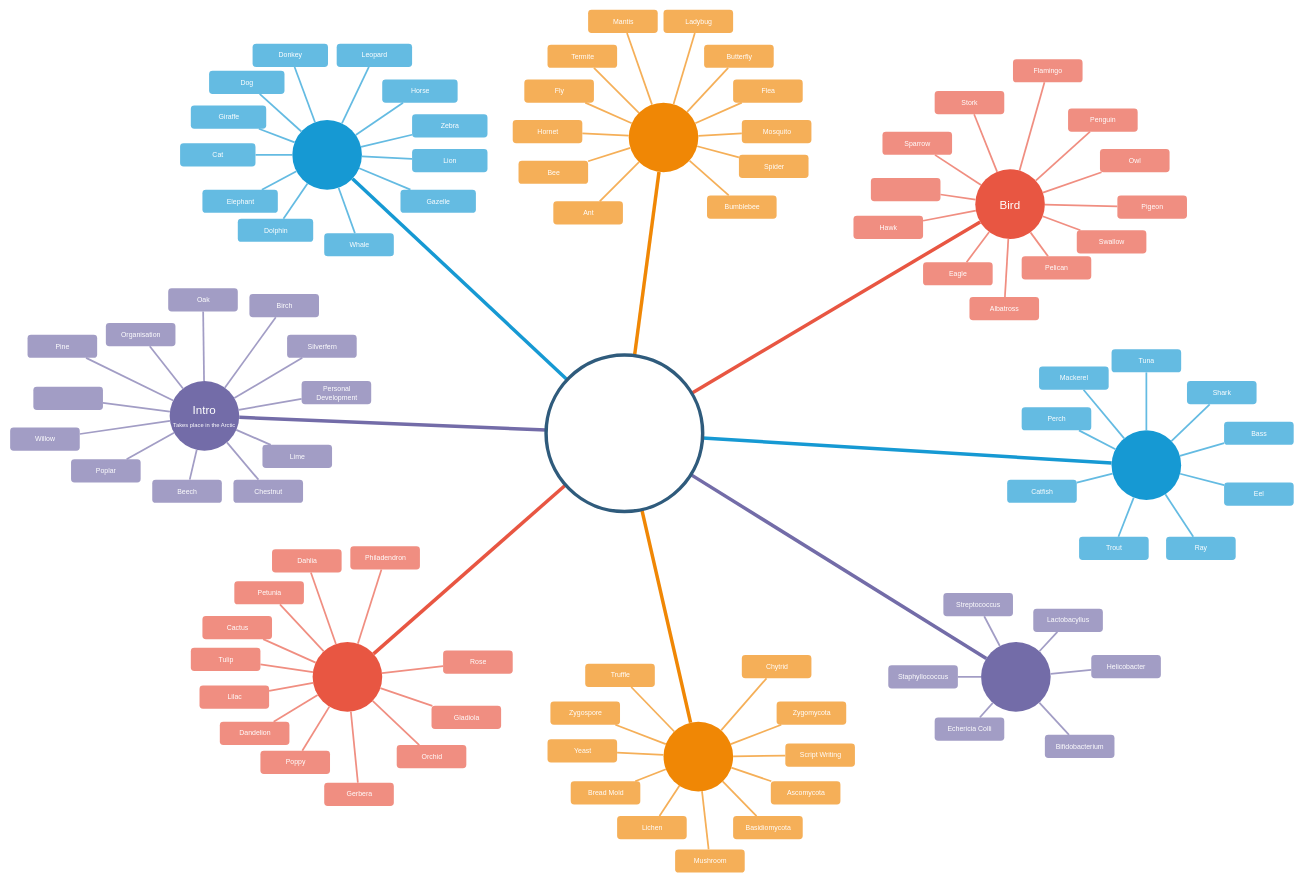
This 1303x883 diagram has some shape labels left out. Here are the shapes that lost their labels. From the top down, the centre of each, then its label:
At pixel 327 154: "Earth".
At pixel 663 137: "Insect".
At pixel 905 189: "Falcon".
At pixel 68 398: "Acacia".
At pixel 624 433: "Chasma Plot".
At pixel 1146 465: "Fish".
At pixel 347 676: "Flower".
At pixel 1015 676: "Bacteria".
At pixel 698 756: "Fungi".
